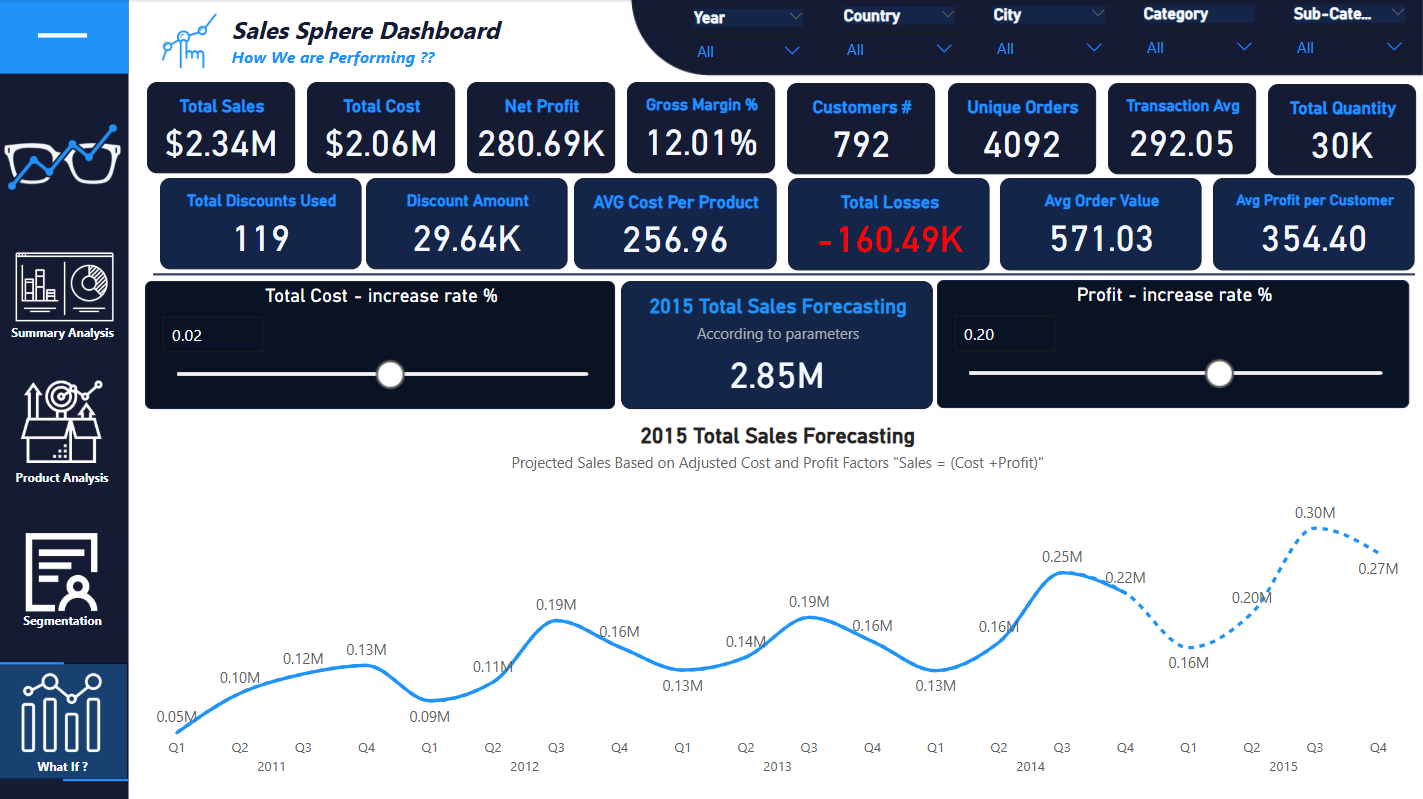

The page's visual inventory and layout, read from the dashboard file:
{"tool":"powerbi","page":{"name":"What If ???  2015 - Sales Forecasting","canvas":[1280,720],"ordinal":3},"visuals":[{"type":"shape","box":[0,596.5,117.6,104.7],"z":0},{"type":"textbox","box":[205.7,8,309.1,61.4],"z":1000},{"type":"card","title":"Total Sales","fields":{"Values":["_Key Measures.01. Total Sales"]},"box":[134.5,74.9,132.9,81.7],"z":2000},{"type":"card","title":"Total Cost","fields":{"Values":["_Key Measures.02. Total Cost"]},"box":[278.3,74.6,132.9,81.7],"z":3000},{"type":"card","title":"Net Profit","fields":{"Values":["_Key Measures.03. Net Profit"]},"box":[422.1,74.4,132.9,81.7],"z":4000},{"type":"card","title":"Gross Margin %","fields":{"Values":["_Key Measures.04.Gross margin (%)"]},"box":[565.9,74.1,132.9,81.7],"z":5000},{"type":"card","title":"Customers #","fields":{"Values":["_Key Measures.05. Customers#"]},"box":[709.6,75.5,132.9,81.7],"z":6000},{"type":"card","title":"Unique Orders","fields":{"Values":["_Key Measures.06. Unique Orders"]},"box":[853.4,75.7,132.9,81.7],"z":7000},{"type":"card","title":"Transaction Avg","fields":{"Values":["_Key Measures.07. Transictions Avg"]},"box":[997.2,75.2,132.9,81.7],"z":8000},{"type":"card","title":"Total Quantity","fields":{"Values":["_Key Measures.08. Total Quantites"]},"box":[1141,76,132.9,81.7],"z":9000},{"type":"card","title":"Total Discounts Used","fields":{"Values":["_Key Measures.Total Discounts Used"]},"box":[146.1,160.7,180.8,82.2],"z":10000},{"type":"card","title":"Discount Amount","fields":{"Values":["_Key Measures.Discount Amount"]},"box":[331.4,160.7,180.8,82.2],"z":11000},{"type":"card","title":"Total Losses","fields":{"Values":["_Key Measures.Total Losses"]},"box":[709.9,160.6,181.3,82.6],"z":12000},{"type":"card","title":"Avg Order Value","fields":{"Values":["_Key Measures.Avg Order Value"]},"box":[900.6,160.6,181.3,82.6],"z":13000},{"type":"card","title":"Avg Profit per Customer","fields":{"Values":["_Key Measures.Avg Profit per Customer"]},"box":[1091.3,160.6,181.3,82.6],"z":14000},{"type":"shape","box":[140,240,1133,15],"z":15000},{"type":"image","box":[139.8,8,65.9,59.1],"z":16000},{"type":"image","box":[11.4,206.8,97.7,104.5],"z":17000},{"type":"image","box":[8,337.5,100,84.1],"z":18000},{"type":"image","box":[9.1,468.2,97.7,92],"z":19000},{"type":"image","box":[17,590.9,81.8,100],"z":20000},{"type":"shape","box":[58.8,685.9,58.8,30.6],"z":21000},{"type":"shape","box":[0,557.6,60,77.6],"z":22000},{"type":"textbox","box":[0,284.5,117.5,26.8],"z":23000},{"type":"textbox","box":[0,414.4,116.5,32],"z":24000},{"type":"textbox","box":[0,674.2,117.5,32],"z":25000},{"type":"textbox","box":[0,543.3,117.5,32],"z":26000},{"type":"shape","box":[0,0,118,67],"z":27000},{"type":"shape","box":[37.1,12.4,44.3,40.2],"z":28000},{"type":"image","box":[0,67,117.5,149.5],"z":29000},{"type":"slicer","fields":{"Values":["Dim - Sub-Category.Sub-Category"]},"box":[1149.5,-1.4,129.9,60.8],"z":30000},{"type":"slicer","fields":{"Values":["Dim - Category.Category"]},"box":[1014.7,-1.4,129.9,60.8],"z":31000},{"type":"slicer","fields":{"Values":["Dim - City.City"]},"box":[879.9,-1,129.9,60.8],"z":32000},{"type":"slicer","fields":{"Values":["Dim - Country.Country"]},"box":[745.1,0,129.9,60.8],"z":33000},{"type":"slicer","fields":{"Values":["Dim - Calendar.Year"]},"box":[609.3,1.1,129.9,60.8],"z":34000},{"type":"lineChart","title":"2015 Total Sales Forecasting ","fields":{"Category":["Dim - Calendar.Year","Dim - Calendar.Quarter"],"Y":["_Key Measures.Total Sales","_Key Measures.Sales Forcast"]},"box":[134.1,374.1,1134.1,336.5],"z":35000},{"type":"slicer","title":"Total Cost - increase rate %","fields":{"Values":["Total Cost - increase rate %.Total Cost - increase rate %"]},"box":[132.9,252.9,422.4,115.3],"z":36000},{"type":"slicer","title":"Profit - increase rate %","fields":{"Values":["Profit - increase rate %.Profit - increase rate %"]},"box":[843.6,252.6,424.4,115.4],"z":37000},{"type":"card","title":"2015 Total Sales Forecasting","fields":{"Values":["_Key Measures.Sales Forcast"]},"box":[560,252.9,280,115.3],"z":38000},{"type":"card","title":"AVG Cost Per Product","fields":{"Values":["_Key Measures.AVG Cost Per Product"]},"box":[517.7,160.7,181.7,82.2],"z":39000}]}

Visuals, with their boxes in screenshot pixels (x1, y1, x2, y2), scaled from the page's 1280x720 canvas onto the 1423x799 screenshot:
shape: bbox=[0, 662, 131, 778]
textbox: bbox=[229, 9, 572, 77]
"Total Sales" card: bbox=[150, 83, 297, 174]
"Total Cost" card: bbox=[309, 83, 457, 173]
"Net Profit" card: bbox=[469, 83, 617, 173]
"Gross Margin %" card: bbox=[629, 82, 777, 173]
"Customers #" card: bbox=[789, 84, 937, 174]
"Unique Orders" card: bbox=[949, 84, 1096, 175]
"Transaction Avg" card: bbox=[1109, 83, 1256, 174]
"Total Quantity" card: bbox=[1268, 84, 1416, 175]
"Total Discounts Used" card: bbox=[162, 178, 363, 270]
"Discount Amount" card: bbox=[368, 178, 569, 270]
"Total Losses" card: bbox=[789, 178, 991, 270]
"Avg Order Value" card: bbox=[1001, 178, 1203, 270]
"Avg Profit per Customer" card: bbox=[1213, 178, 1415, 270]
shape: bbox=[156, 266, 1415, 283]
image: bbox=[155, 9, 229, 74]
image: bbox=[13, 229, 121, 345]
image: bbox=[9, 375, 120, 468]
image: bbox=[10, 520, 119, 622]
image: bbox=[19, 656, 110, 767]
shape: bbox=[65, 761, 131, 795]
shape: bbox=[0, 619, 67, 705]
textbox: bbox=[0, 316, 131, 345]
textbox: bbox=[0, 460, 130, 495]
textbox: bbox=[0, 748, 131, 784]
textbox: bbox=[0, 603, 131, 638]
shape: bbox=[0, 0, 131, 74]
shape: bbox=[41, 14, 90, 58]
image: bbox=[0, 74, 131, 240]
slicer - Dim - Sub-Category.Sub-Category: bbox=[1278, 0, 1422, 66]
slicer - Dim - Category.Category: bbox=[1128, 0, 1272, 66]
slicer - Dim - City.City: bbox=[978, 0, 1123, 66]
slicer - Dim - Country.Country: bbox=[828, 0, 973, 67]
slicer - Dim - Calendar.Year: bbox=[677, 1, 822, 69]
"2015 Total Sales Forecasting " lineChart: bbox=[149, 415, 1410, 789]
"Total Cost - increase rate %" slicer: bbox=[148, 281, 617, 409]
"Profit - increase rate %" slicer: bbox=[938, 280, 1410, 408]
"2015 Total Sales Forecasting" card: bbox=[623, 281, 934, 409]
"AVG Cost Per Product" card: bbox=[576, 178, 778, 270]
